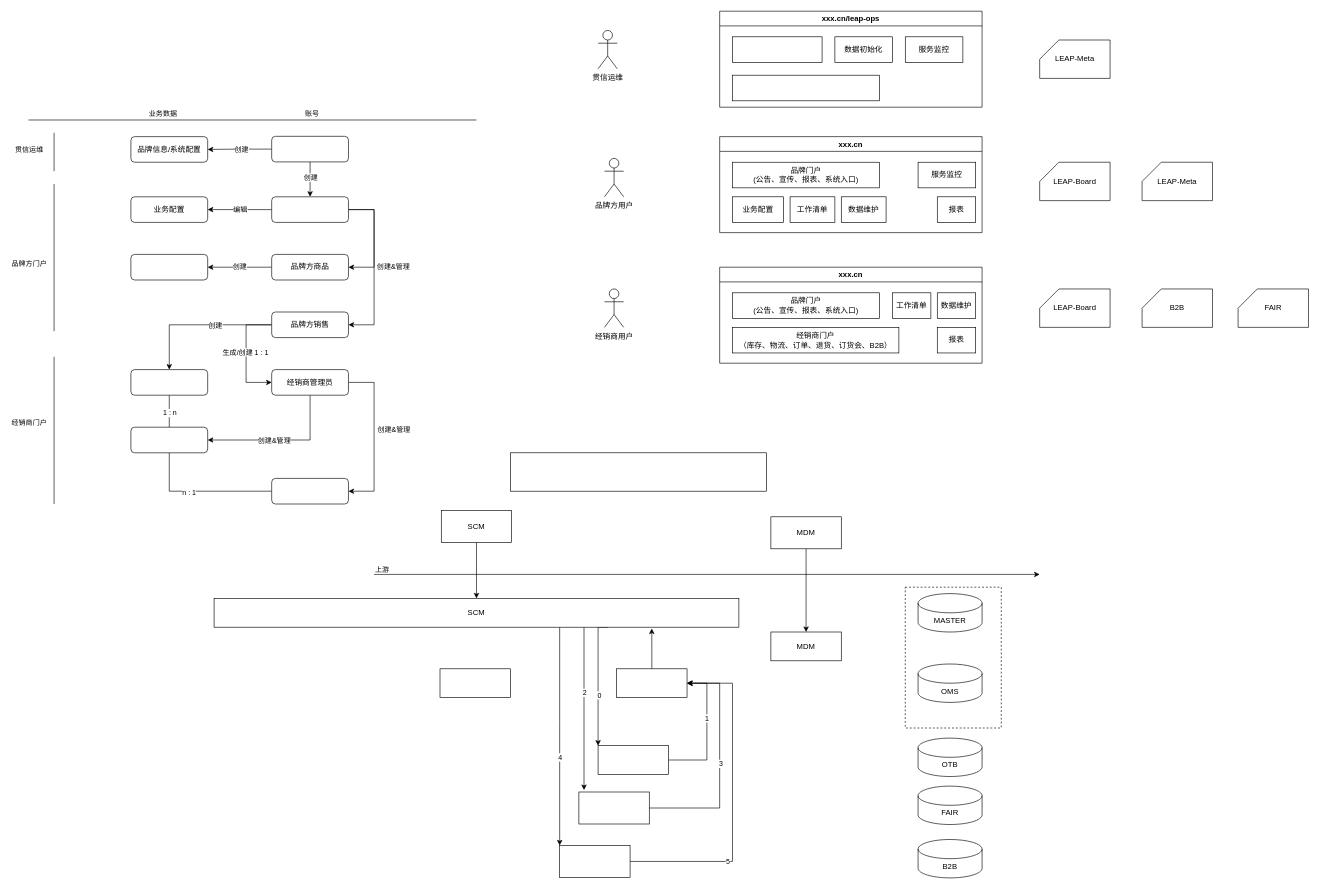
Some shapes in this 1320 by 890 pixel diagram are drawn without their labels. The centre of each missing label's shape, as x and y in pixels:
B2B-Order: the point at 594,861
ERP: the point at 638,471
FAIR-Order: the point at 613,807
OMS-Order: the point at 651,683
OMS-Shop2: the point at 474,683
OTB-Order: the point at 632,759
买手: the point at 309,491
品牌方IT: the point at 309,209
商品资料: the point at 169,267
系统管理 (模块管理、系统参数、产品证书...): the point at 806,88
系统账号: the point at 309,149
经销商: the point at 169,382
运维工具 （备份、检测、安装...）: the point at 777,49
门店: the point at 169,440
